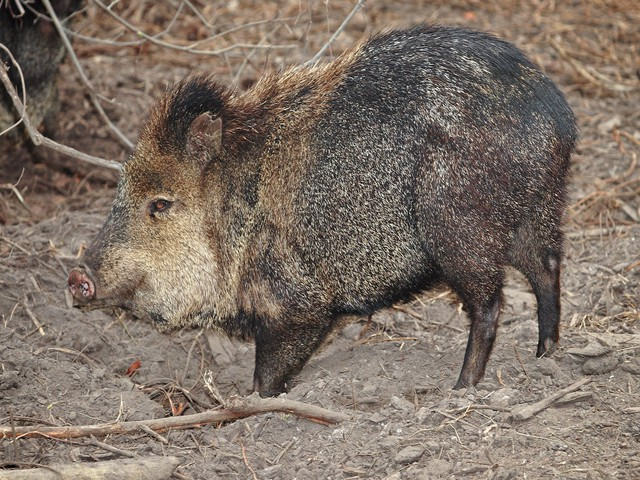Pig: (61, 18, 583, 382)
